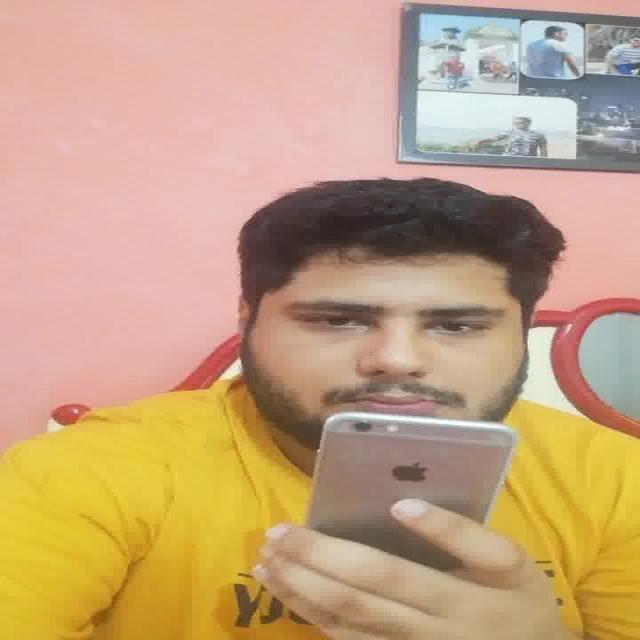Phone: (308, 411, 520, 526)
